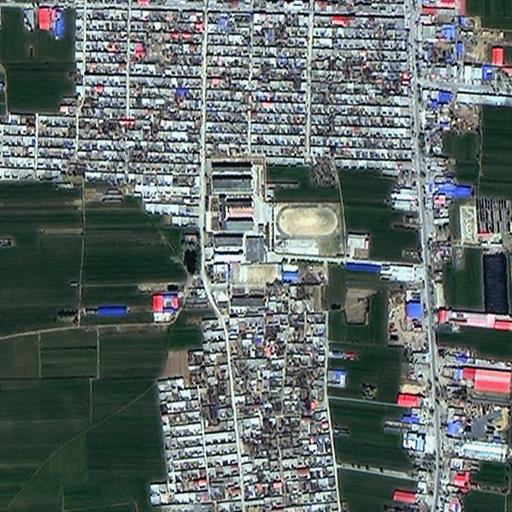school: (204, 158, 344, 259), (233, 263, 277, 308)
